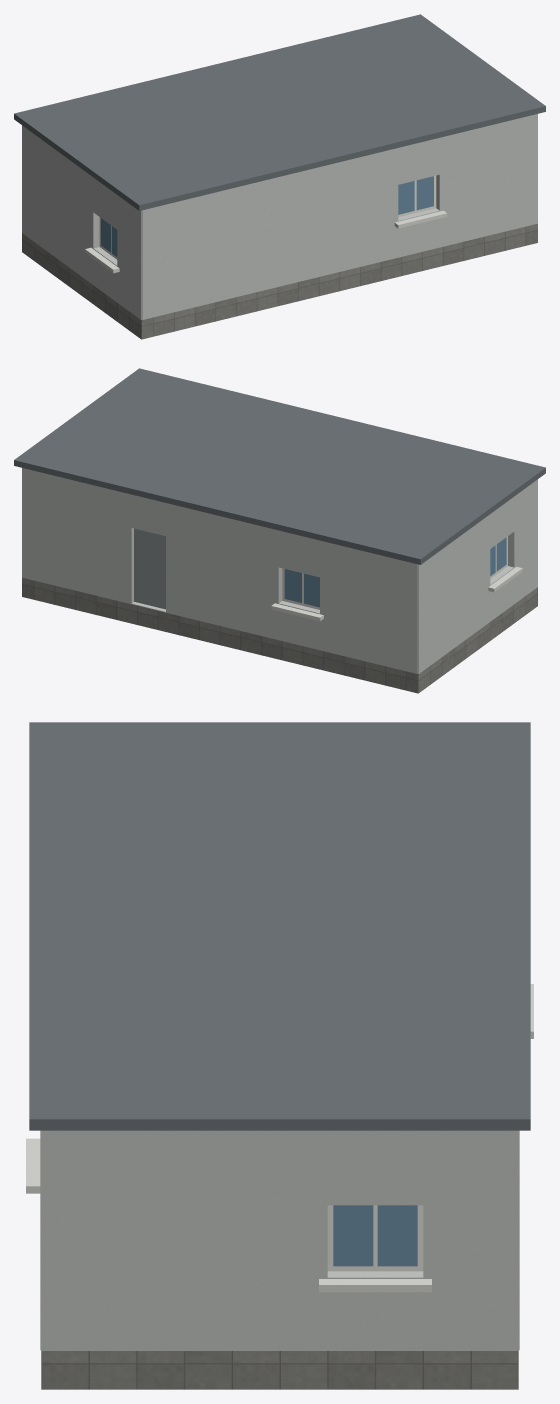
3 renders of one model, top to bottom at view 1: azimuth 30°, elevation 25°; view 2: azimuth 150°, elevation 25°; view 3: azimuth 270°, elevation 25°, orthographic. The views are drawn at different scales.
Visible parts, largest first — view 1: kiosk__wall, kiosk__greyroof, kiosk__stone, kiosk__sideglass, kiosk__white, kiosk__frame; view 2: kiosk__greyroof, kiosk__wall, kiosk__stone, kiosk__shutter, kiosk__sideglass, kiosk__white, kiosk__frame; view 3: kiosk__greyroof, kiosk__wall, kiosk__stone, kiosk__sideglass, kiosk__white, kiosk__frame.
Part boxes in pixels (<box>): kiosk__wall: <box>22,114,537,319</box>; kiosk__greyroof: <box>14,14,545,210</box>; kiosk__stone: <box>22,223,537,339</box>; kiosk__sideglass: <box>101,176,433,256</box>; kiosk__white: <box>85,210,447,273</box>; kiosk__frame: <box>99,175,436,259</box>; kiosk__greyroof: <box>14,368,545,564</box>; kiosk__wall: <box>22,468,537,673</box>; kiosk__stone: <box>22,577,537,693</box>; kiosk__shutter: <box>134,528,165,609</box>; kiosk__sideglass: <box>284,537,506,607</box>; kiosk__white: <box>271,566,522,621</box>; kiosk__frame: <box>282,536,507,609</box>; kiosk__greyroof: <box>29,722,530,1130</box>; kiosk__wall: <box>40,1130,519,1350</box>; kiosk__stone: <box>41,1350,518,1389</box>; kiosk__sideglass: <box>333,1205,417,1266</box>; kiosk__white: <box>26,984,533,1292</box>; kiosk__frame: <box>327,1205,423,1271</box>.
Bounding box in the file's own units: 11.88 × 3.82 × 6.38.
Materials: 7 (3 with a texture image).
